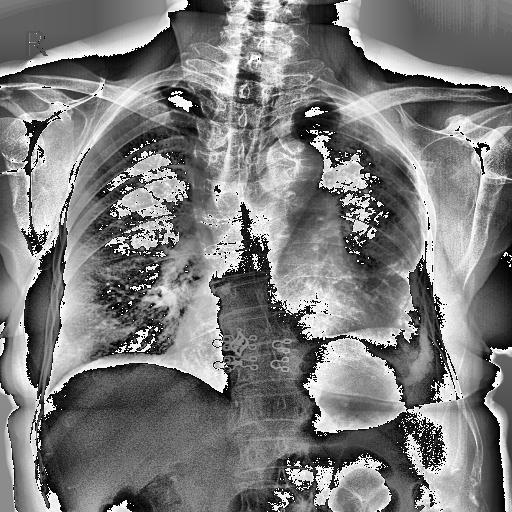0- Aortic enlargement: (249, 136, 323, 222), (251, 142, 326, 212), (258, 140, 324, 190)
11- Pleural thickening: (390, 258, 442, 384), (406, 246, 442, 360)
13- Pulmonary fibrosis: (380, 252, 414, 276)
2- Calcification: (398, 255, 450, 390), (390, 258, 442, 384)
3- Cardiomegaly: (174, 294, 384, 378)
7- Lung Opacity: (364, 126, 410, 185)
9- Other lesion: (184, 92, 262, 313), (196, 136, 264, 254), (308, 320, 438, 357)
